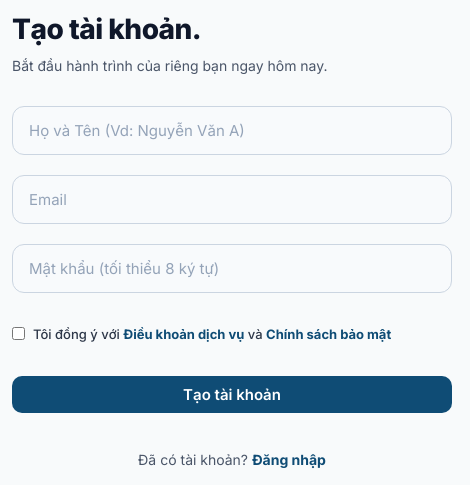
Register.jsx › Validation (client-side) › hiển thị lỗi khi submit form trống
This screenshot has width=470, height=485.
What coordinates should you click on to do the following:
click the button "Tạo tài khoản"
I would click on:
 (232, 395)
Its box is [12,376,452,413].
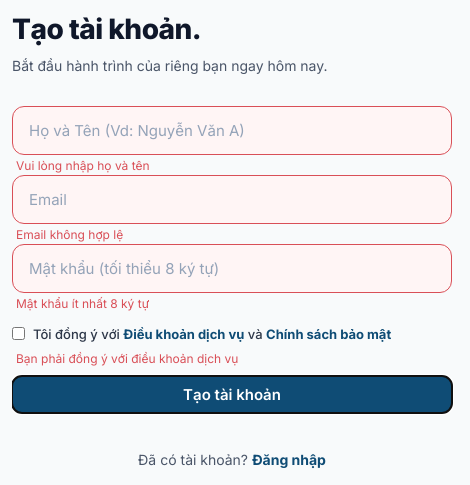
Check: the text "Vui lòng nhập họ và tên" is shown, box [16,157,150,175]
